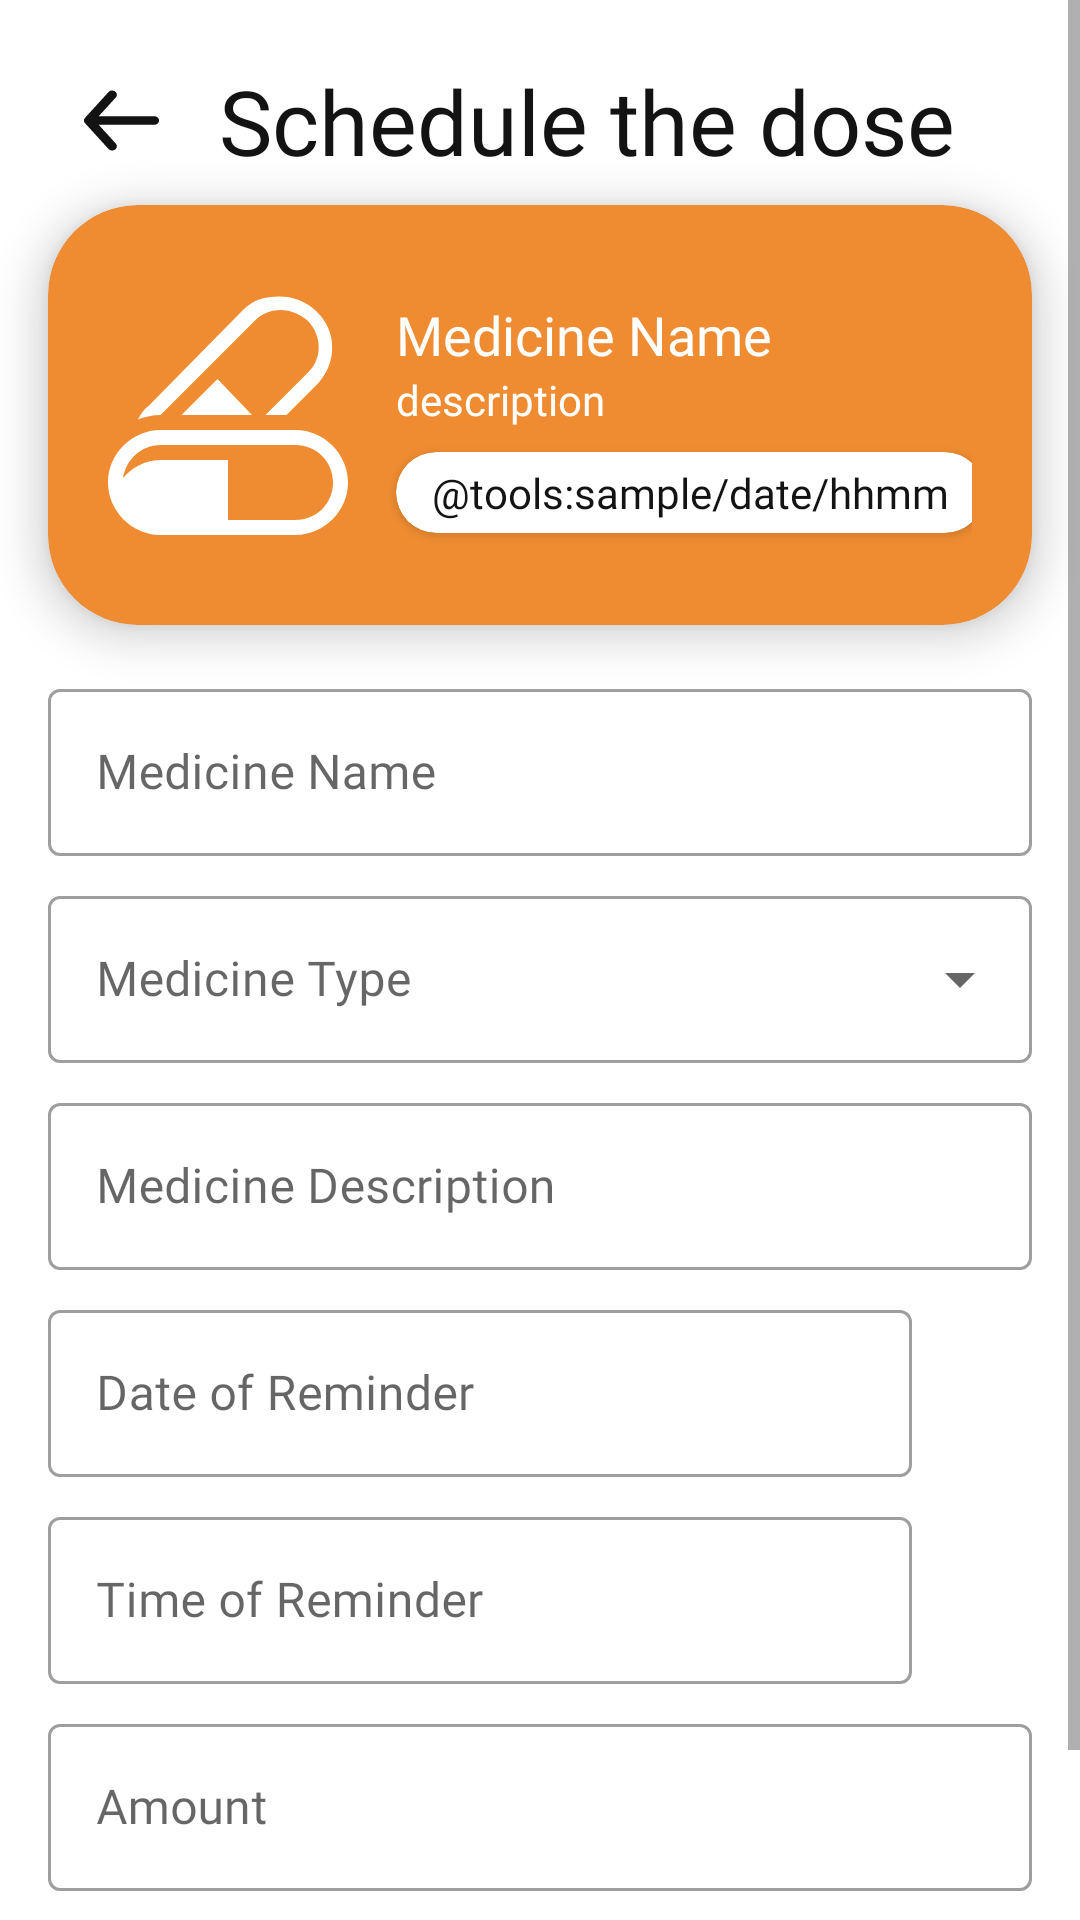

Screen size 1080*1920. Icon name, then its box in pixels as (x1, y1, x2, y2):
arrow back: (84, 90, 159, 151)
